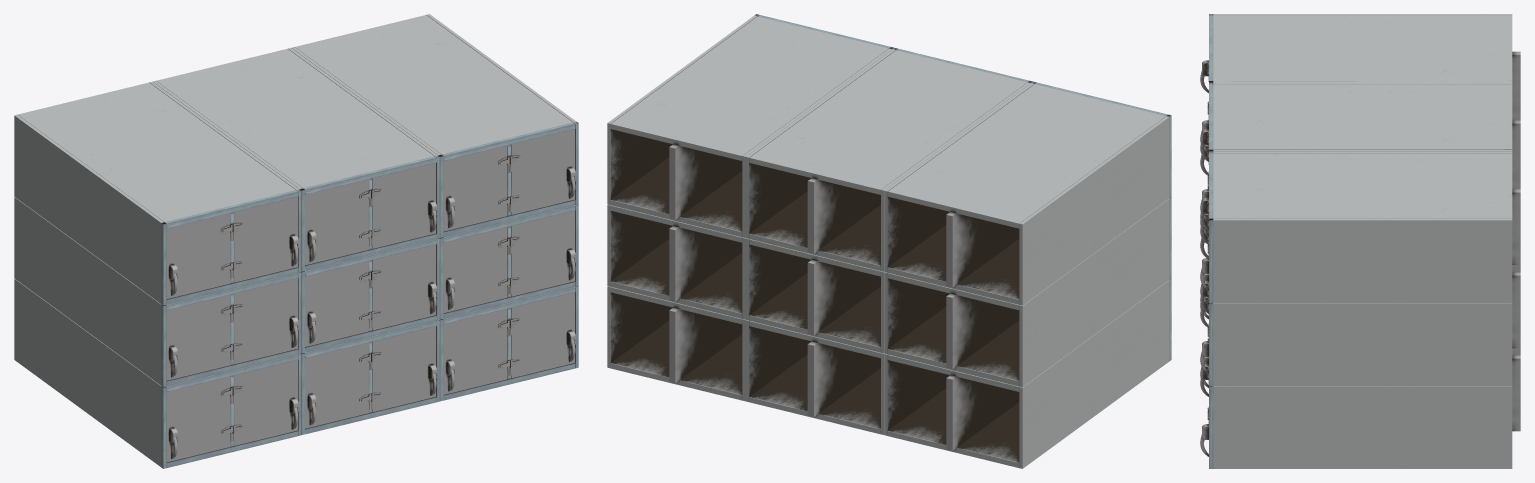
The model's file is morguefridge.glb.
3 views of the same model, side by side, from view 1: azimuth 30°, elevation 25°; view 2: azimuth 150°, elevation 25°; view 3: azimuth 270°, elevation 25° (orthographic).
Visible parts, largest first — view 1: Cloner_Mat.1_0; view 2: Cloner_Mat.1_0; view 3: Cloner_Mat.1_0.
Part boxes in pixels (x1,y1,x2,y2): Cloner_Mat.1_0: (14,14,578,468); Cloner_Mat.1_0: (607,14,1171,468); Cloner_Mat.1_0: (1200,14,1520,468).
Bounding box in the file's own units: 3.2 × 1.8 × 2.1.
2 materials, 2 textured.
